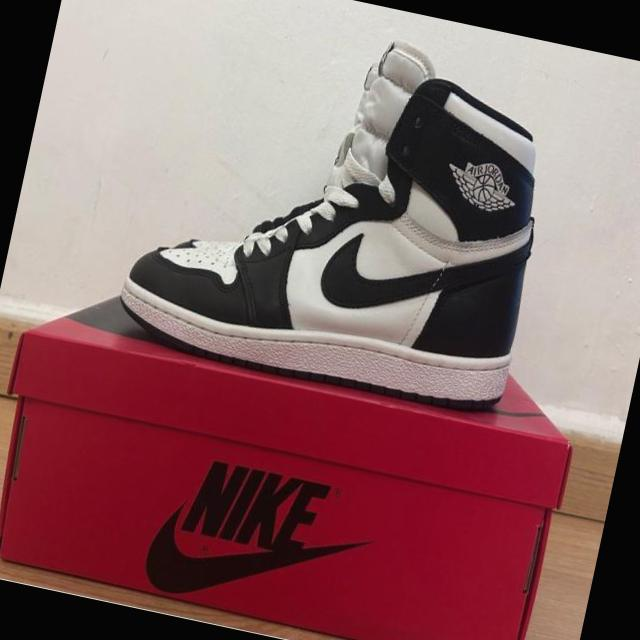nike_original_jordan: (111, 16, 570, 424)
